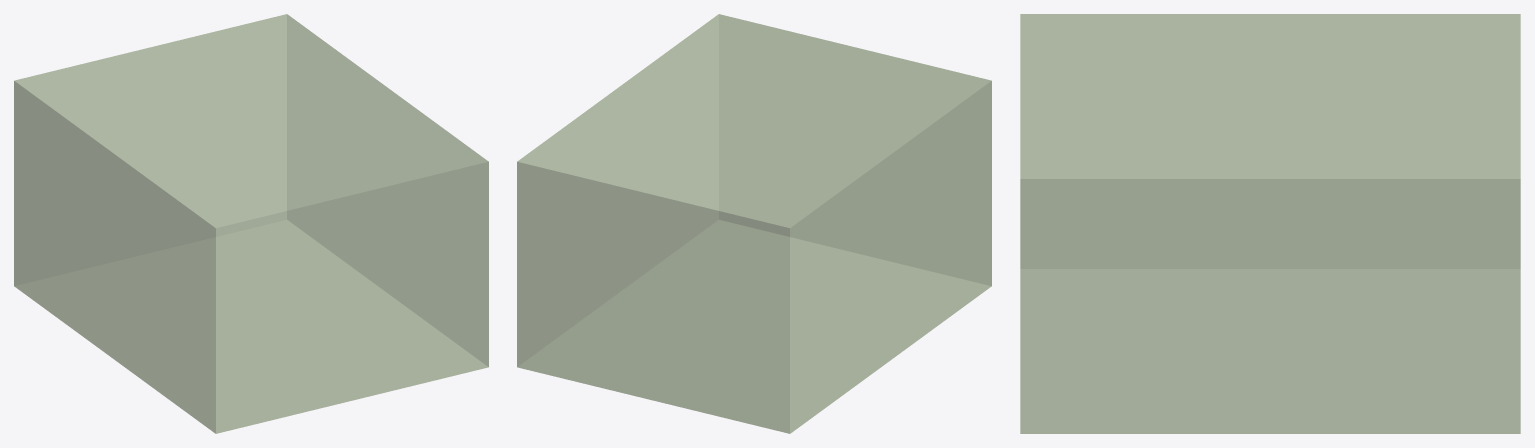
Rendered from blockout.glb.
3 renders of one model, left to right at view 1: azimuth 30°, elevation 25°; view 2: azimuth 150°, elevation 25°; view 3: azimuth 270°, elevation 25°, orthographic. The views are drawn at different scales.
Parts seen in each view (by area): view 1: U03_ENVELOPE_NOT_FINAL_MESH; view 2: U03_ENVELOPE_NOT_FINAL_MESH; view 3: U03_ENVELOPE_NOT_FINAL_MESH.
Boxes of the visible parts, left/top/right/bottom form: U03_ENVELOPE_NOT_FINAL_MESH: left=14, top=14, right=488, bottom=433; U03_ENVELOPE_NOT_FINAL_MESH: left=517, top=14, right=991, bottom=433; U03_ENVELOPE_NOT_FINAL_MESH: left=1020, top=14, right=1520, bottom=433.
Bounding box in the file's own units: 1.25 × 0.9 × 1.6.
